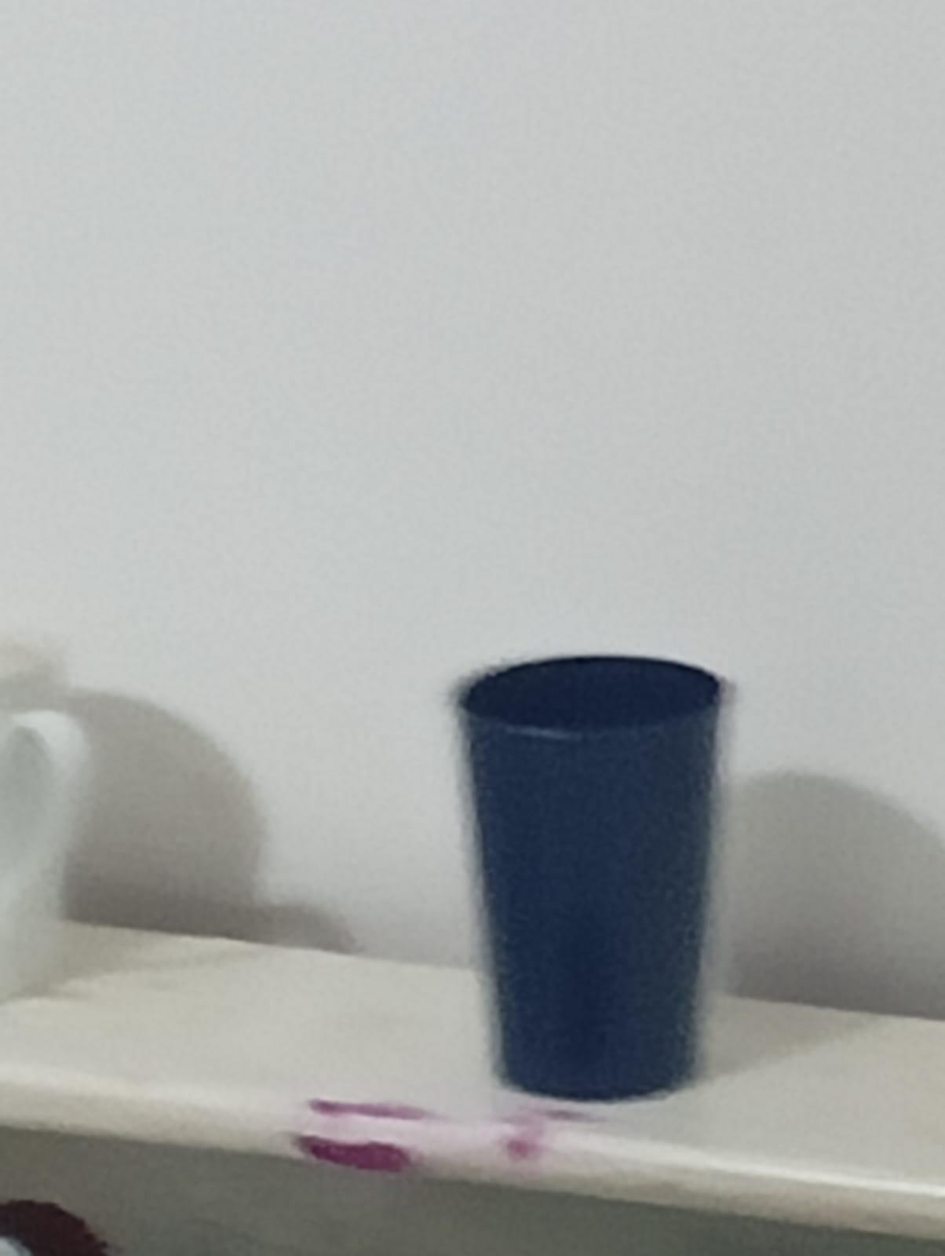cup: (458, 657, 722, 1099), (0, 643, 86, 999)
